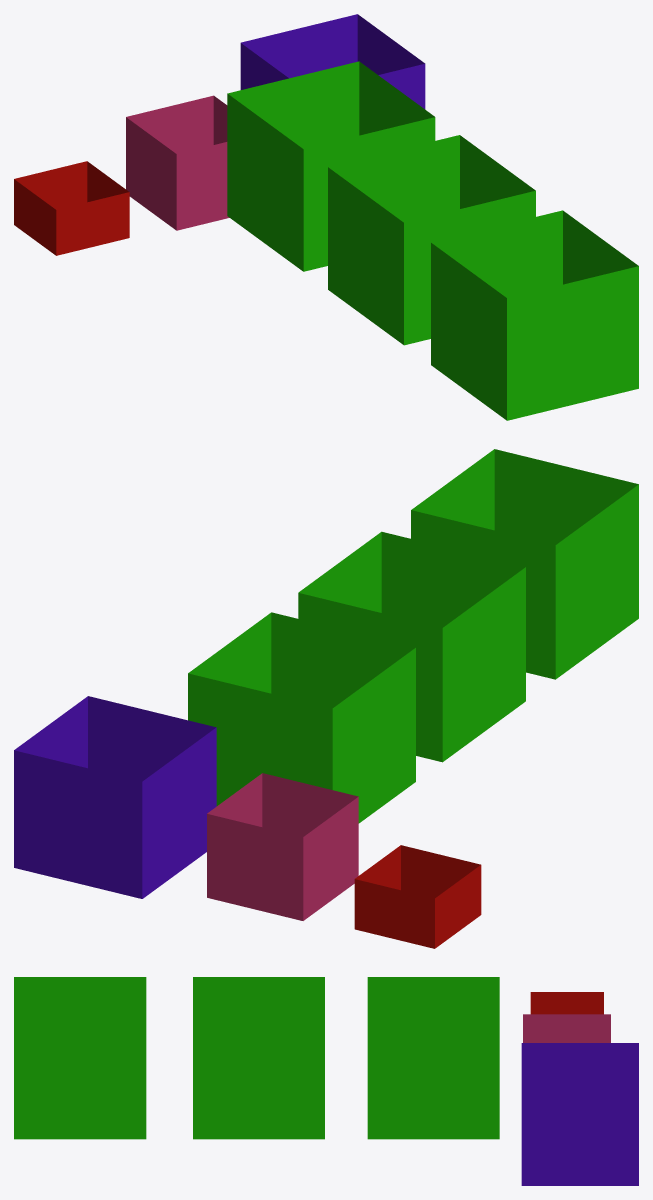
Rendered from obj4_wall.obj.
3 views of the same model, one above another, from view 1: azimuth 30°, elevation 25°; view 2: azimuth 150°, elevation 25°; view 3: azimuth 270°, elevation 25° (orthographic). The views are drawn at different scales.
Parts seen in each view (by area): view 1: 立方体.016, 立方体.013, 立方体.010, 立方体.006, 立方体.009, 立方体.004; view 2: 立方体.010, 立方体.009, 立方体.016, 立方体.013, 立方体.006, 立方体.004; view 3: 立方体.010, 立方体.016, 立方体.013, 立方体.009, 立方体.006, 立方体.004.
Part boxes in pixels (left/top/right/bottom): 立方体.016: left=431, top=210, right=638, bottom=420; 立方体.013: left=328, top=135, right=535, bottom=345; 立方体.010: left=227, top=61, right=435, bottom=271; 立方体.006: left=126, top=95, right=229, bottom=230; 立方体.009: left=240, top=14, right=425, bottom=109; 立方体.004: left=14, top=161, right=129, bottom=255; 立方体.010: left=188, top=612, right=415, bottom=823; 立方体.009: left=14, top=696, right=216, bottom=898; 立方体.016: left=411, top=449, right=638, bottom=679; 立方体.013: left=298, top=531, right=525, bottom=762; 立方体.006: left=207, top=773, right=358, bottom=920; 立方体.004: left=354, top=845, right=481, bottom=948; 立方体.010: left=367, top=977, right=499, bottom=1139; 立方体.016: left=14, top=977, right=146, bottom=1139; 立方体.013: left=193, top=977, right=324, bottom=1139; 立方体.009: left=521, top=1043, right=638, bottom=1185; 立方体.006: left=523, top=1014, right=610, bottom=1042; 立方体.004: left=530, top=992, right=603, bottom=1014.
Bounding box in the file's own units: 49.68 × 18 × 85.11.
